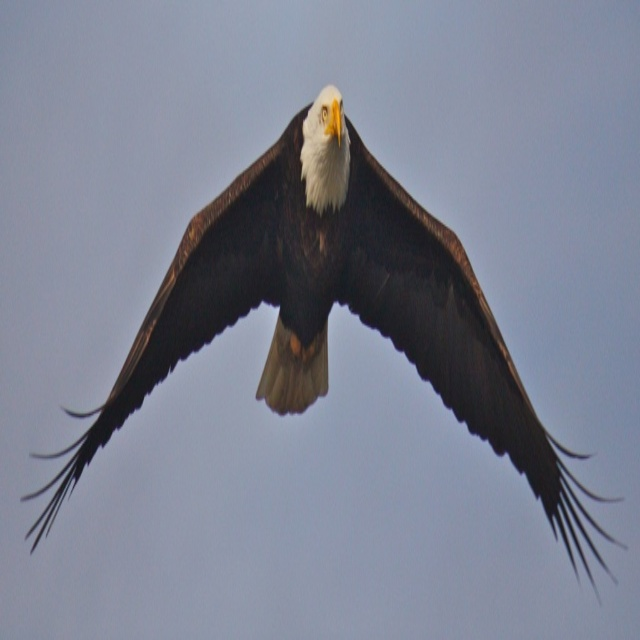Eagle: (20, 61, 624, 600)
